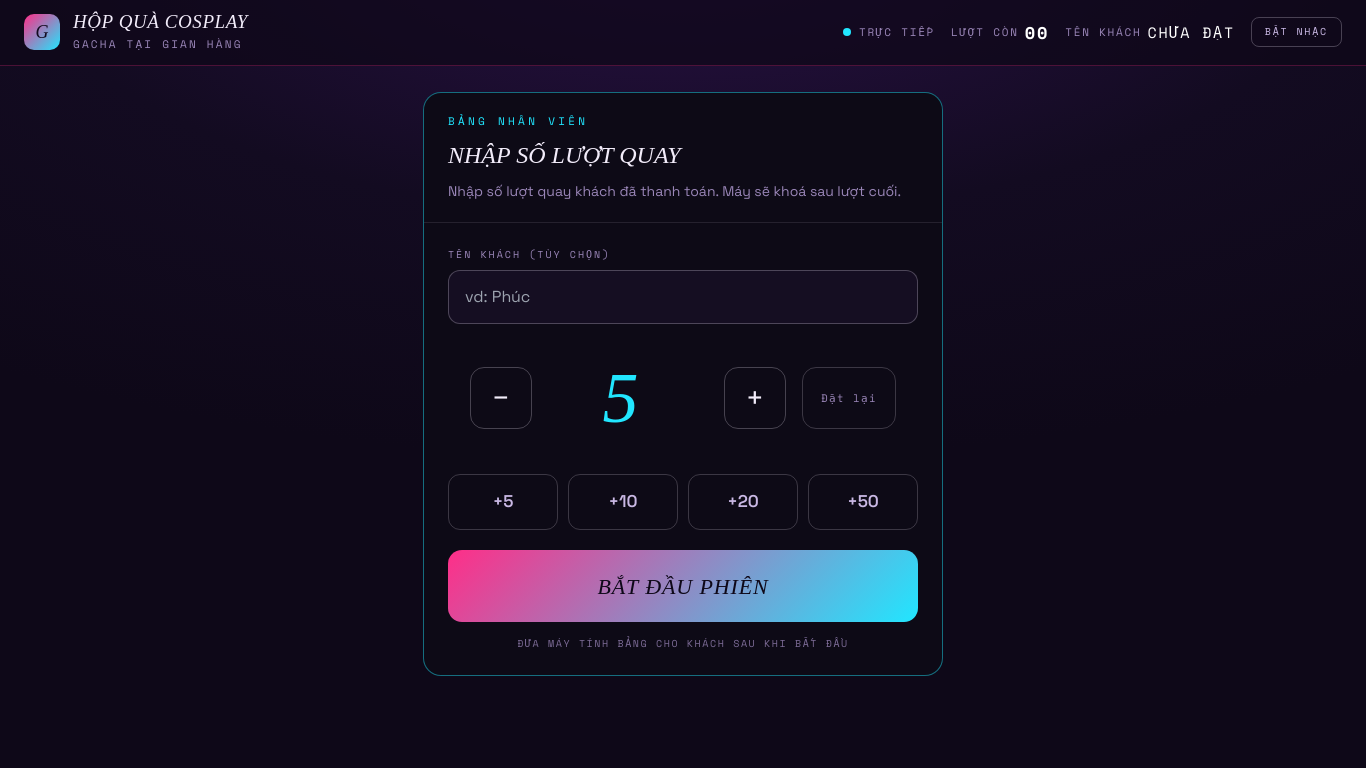
Test: GachaKiosk › passes the fetched prizes to the machine rather than an empty list
Click the button "Bắt đầu phiên" at (683, 586), box left=448, top=550, right=918, bottom=622
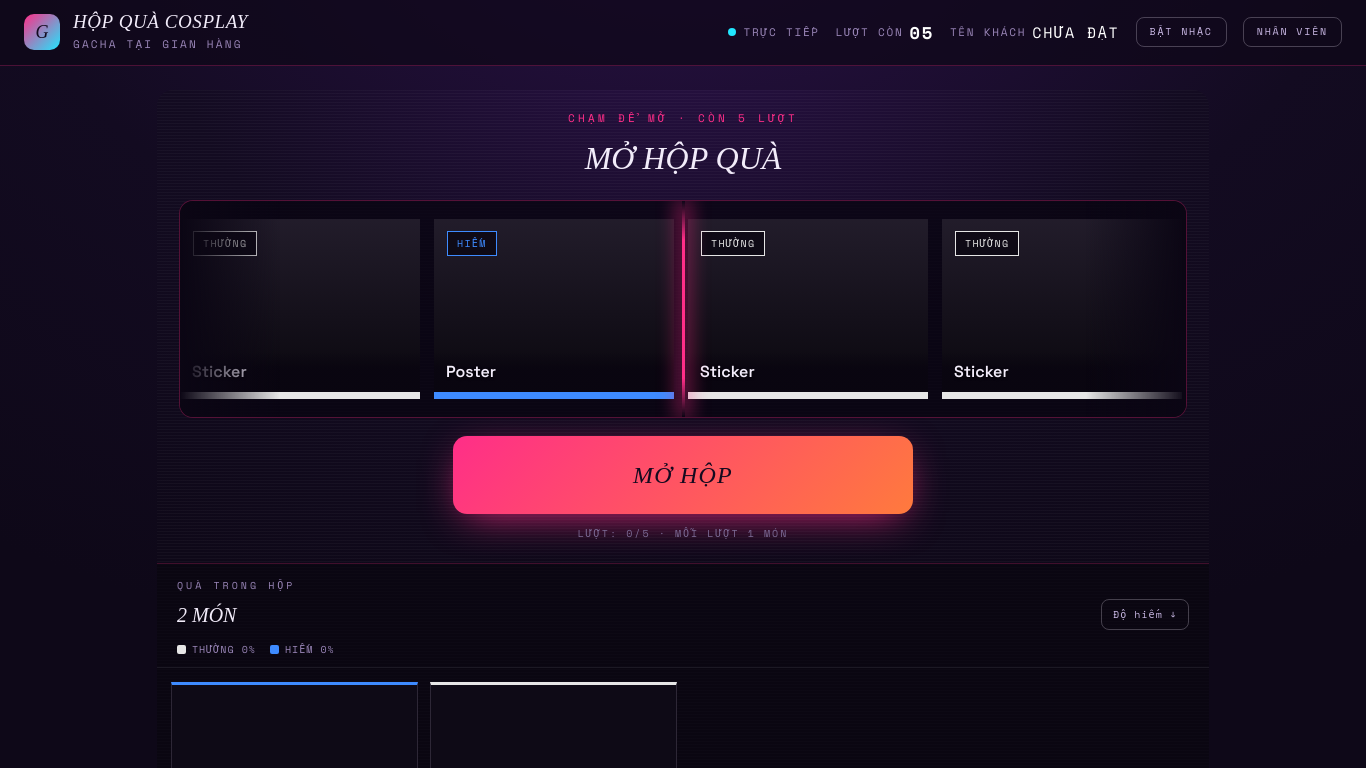
Check: the text "Sticker" is shown, box left=192, top=360, right=247, bottom=384
